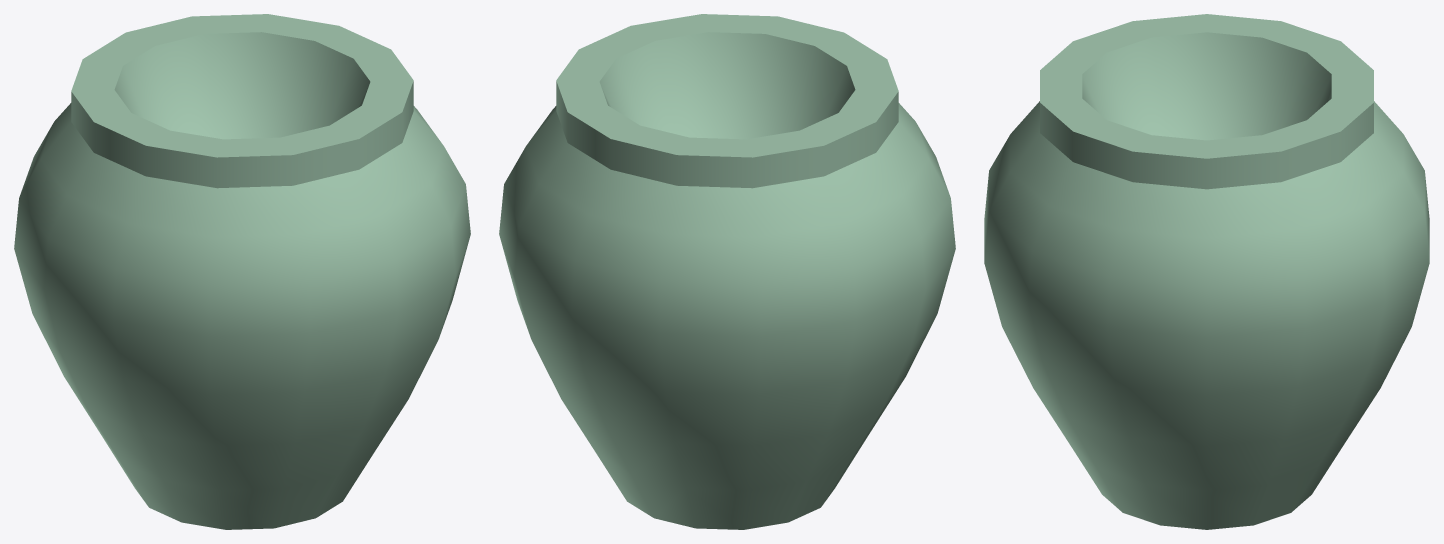
Rendered from pot.fbx.
3 views of the same model, side by side, from view 1: azimuth 30°, elevation 25°; view 2: azimuth 150°, elevation 25°; view 3: azimuth 270°, elevation 25° (orthographic).
Visible parts, largest first — view 1: pot; view 2: pot; view 3: pot.
Boxes of the visible parts, left/top/right/bottom form: pot: left=14, top=14, right=470, bottom=529; pot: left=499, top=14, right=955, bottom=529; pot: left=984, top=14, right=1429, bottom=529.
Size of the model in its own units: 4.87 by 4.75 by 4.68.
